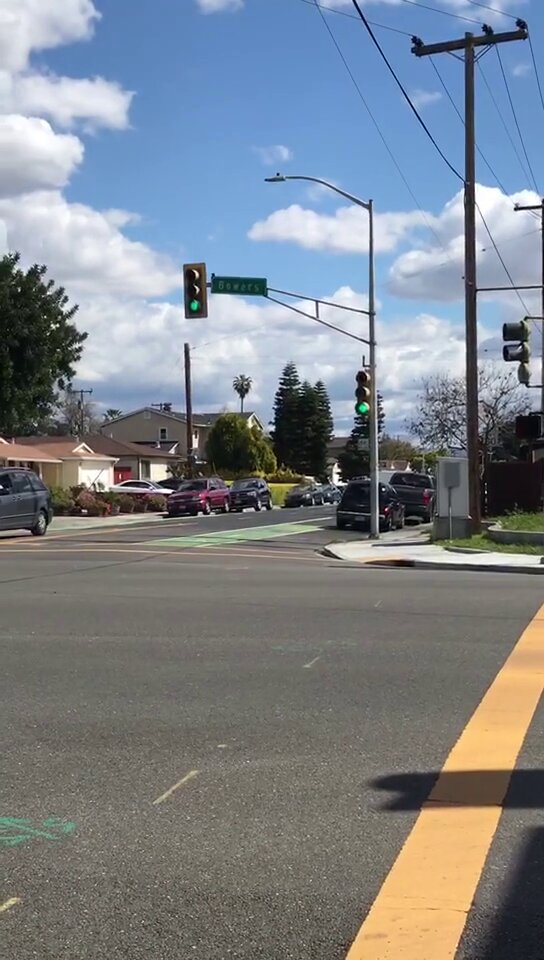green_light: (185, 264, 204, 318), (356, 370, 373, 417)
